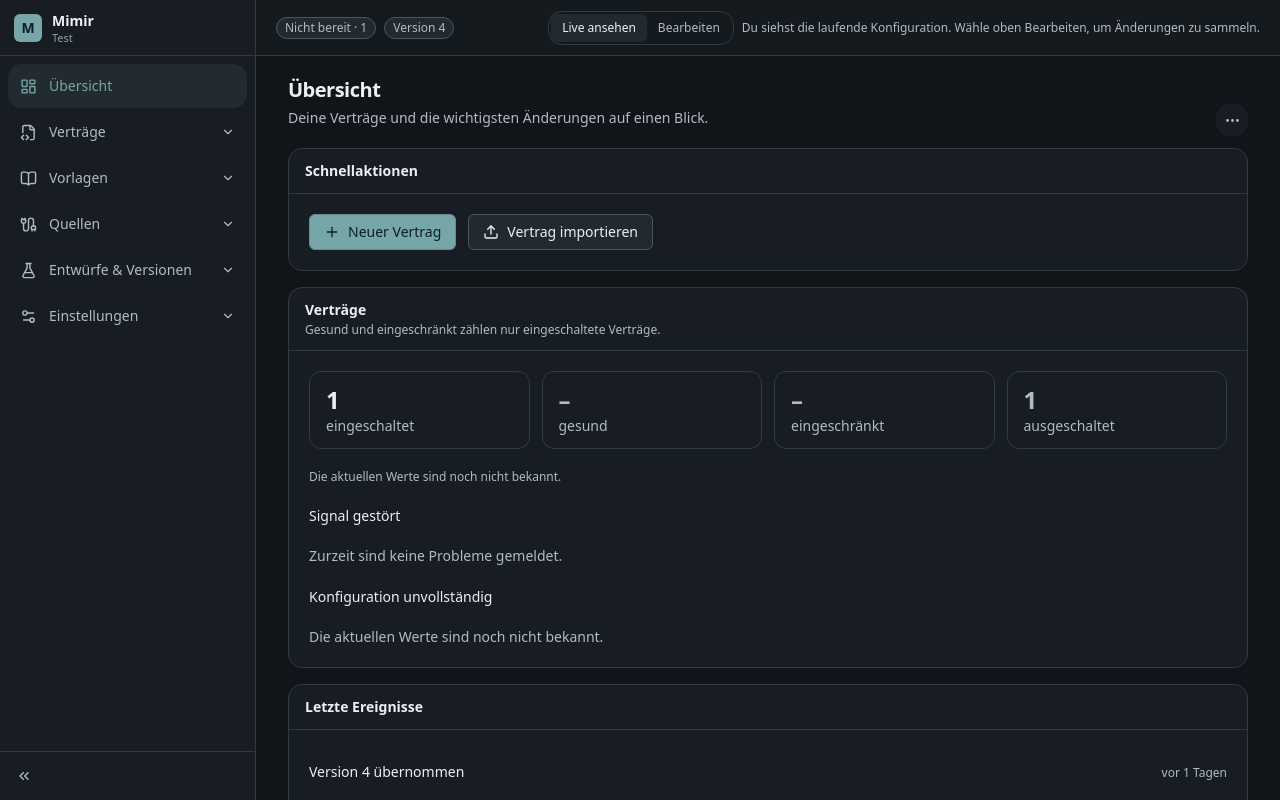
Test: renders exactly three overview blocks and links the count to a filtered list
The image size is (1280, 800).
expect the text "Version 4 übernommen" is shown: met, box [309, 762, 464, 782]
expect the headings read "Schnellaktionen", "Verträge", "Letzte Ereignisse", in this order: met, box [305, 161, 418, 181]; [305, 300, 366, 319]; [305, 697, 423, 717]
Click the link "1 ausgeschaltet".
click(1117, 410)  # box [1006, 371, 1227, 449]
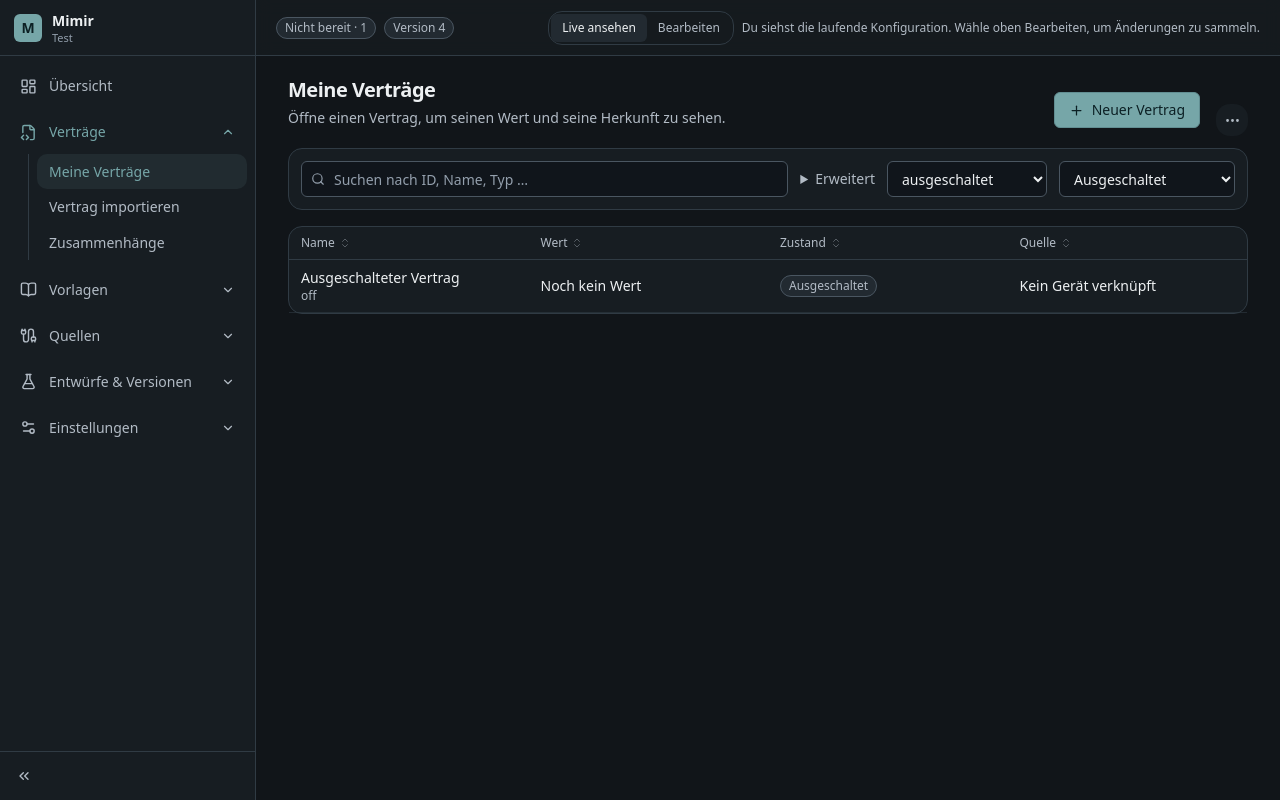
expect the link "Ausgeschalteter Vertrag" is shown: met, box [301, 268, 460, 287]
